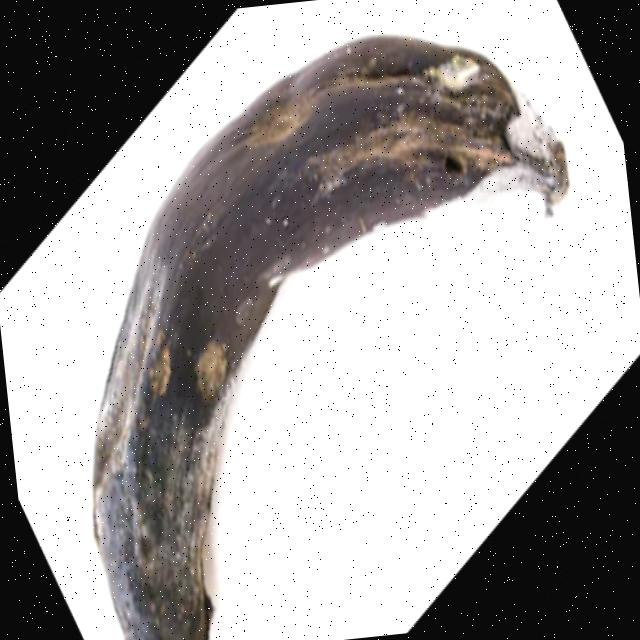Rotten: (40, 12, 613, 640)
